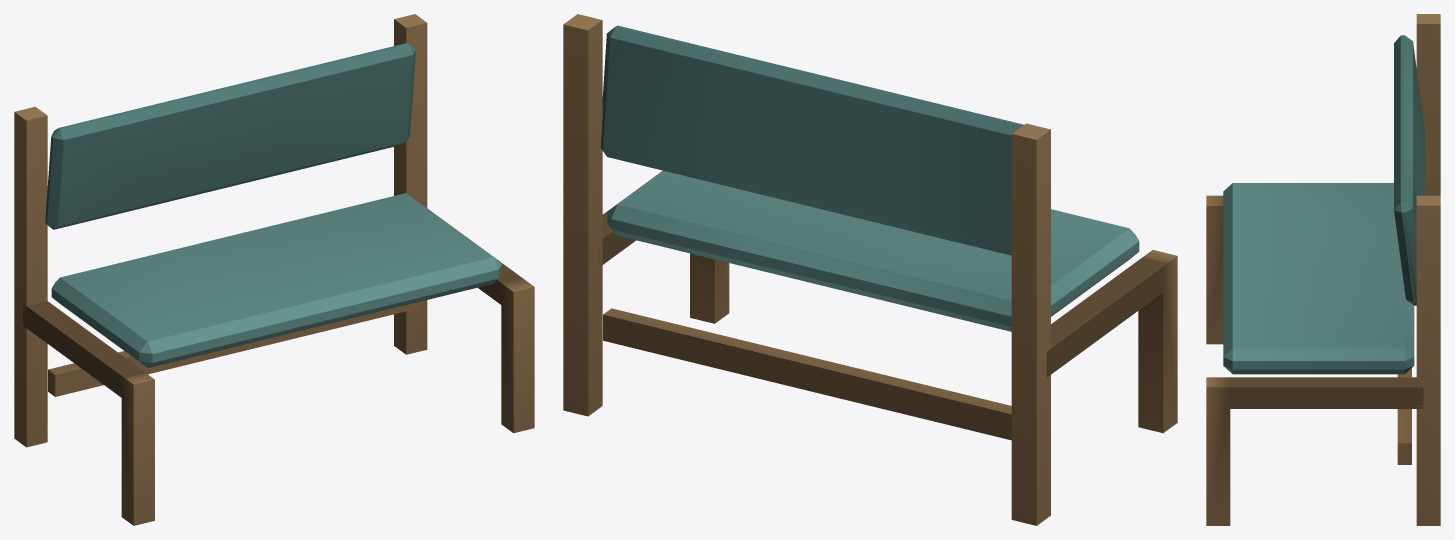
The model's file is bench.glb.
The picture shows the model from 3 angles, left to right: view 1: azimuth 30°, elevation 25°; view 2: azimuth 150°, elevation 25°; view 3: azimuth 270°, elevation 25°; orthographic projection. The views are drawn at different scales.
Parts seen in each view (by area): view 1: seat, back, frame; view 2: frame, back, seat; view 3: seat, frame, back.
Part boxes in pixels (bbox=[...]): seat: bbox=[51, 193, 502, 367]; back: bbox=[45, 42, 415, 229]; frame: bbox=[14, 14, 534, 525]; frame: bbox=[563, 14, 1177, 525]; back: bbox=[600, 25, 1023, 255]; seat: bbox=[607, 170, 1139, 331]; seat: bbox=[1223, 183, 1414, 374]; frame: bbox=[1206, 14, 1440, 525]; back: bbox=[1394, 35, 1424, 305].
Bounding box in the file's own units: 0.95 × 0.74 × 0.49.
